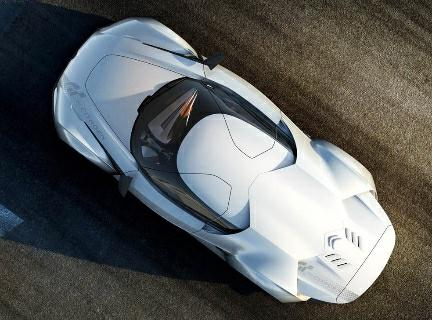雪铁龙-GT: (47, 17, 399, 308)
